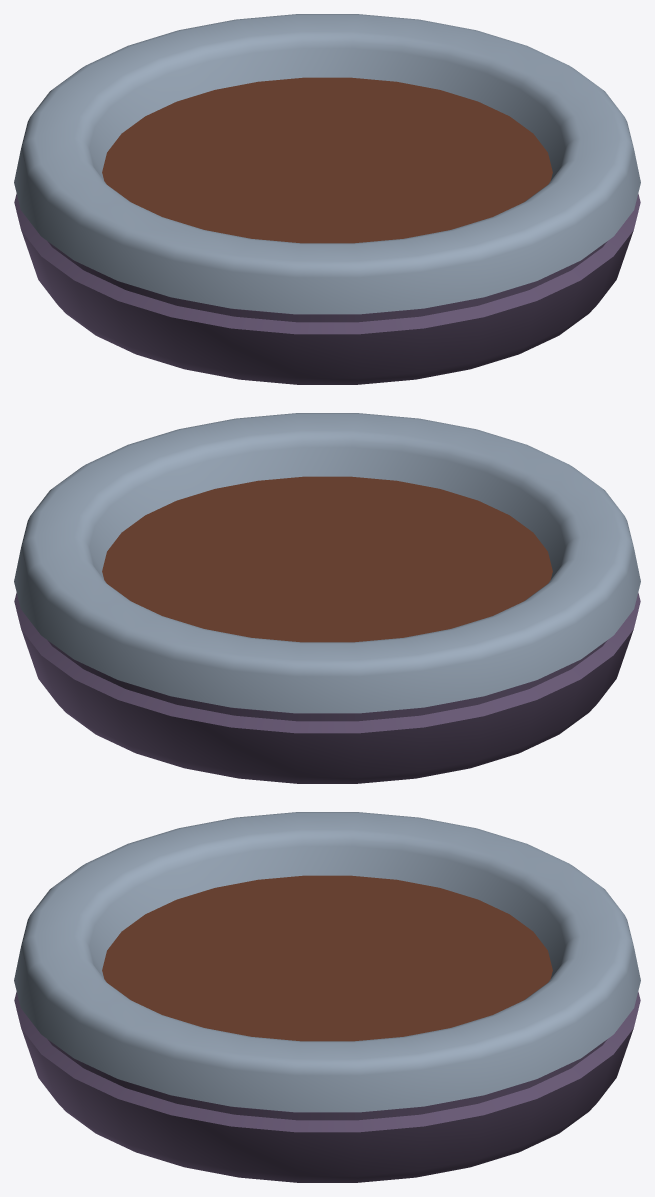
File: FountainBottom.fbx
3 views of the same model, one above another, from view 1: azimuth 30°, elevation 25°; view 2: azimuth 150°, elevation 25°; view 3: azimuth 270°, elevation 25° (orthographic).
Visible parts, largest first — view 1: FountainBottom_LOD0; view 2: FountainBottom_LOD0; view 3: FountainBottom_LOD0.
Boxes of the visible parts, left/top/right/bottom form: FountainBottom_LOD0: left=14, top=14, right=640, bottom=384; FountainBottom_LOD0: left=14, top=413, right=640, bottom=783; FountainBottom_LOD0: left=14, top=812, right=640, bottom=1182.
Size of what is drawn, in the model's own units: 337 by 86.34 by 338.
